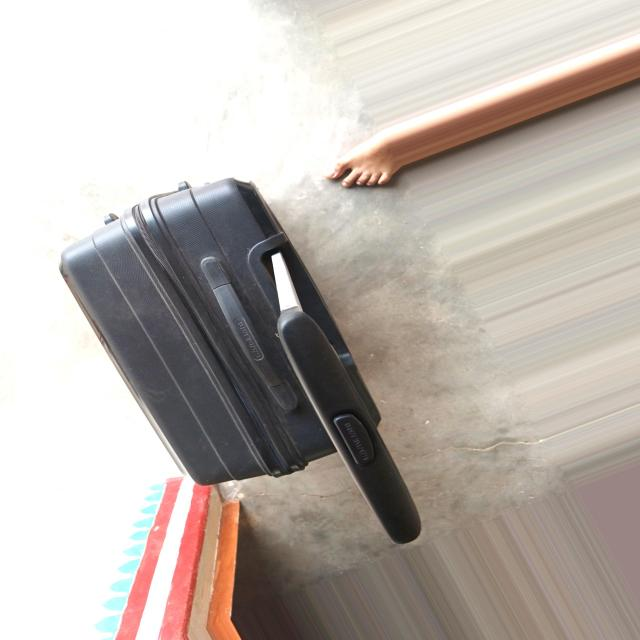Bag: (51, 169, 442, 573)
Handle: (269, 238, 440, 562)
